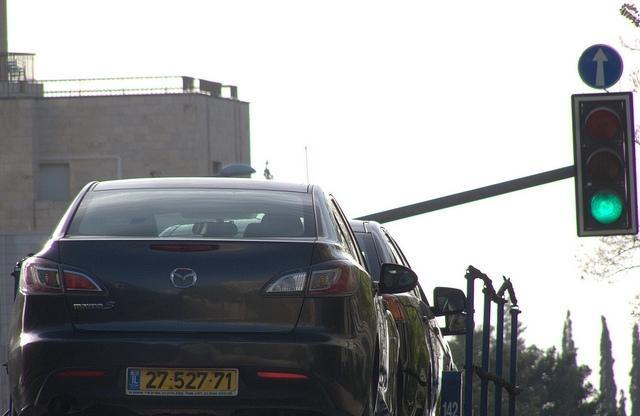car: (6, 176, 416, 416), (358, 221, 466, 416)
